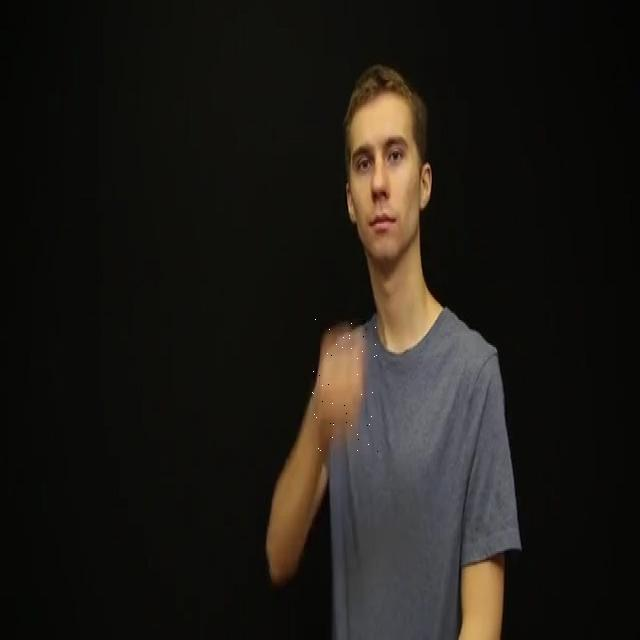icecream: (310, 314, 378, 459)
